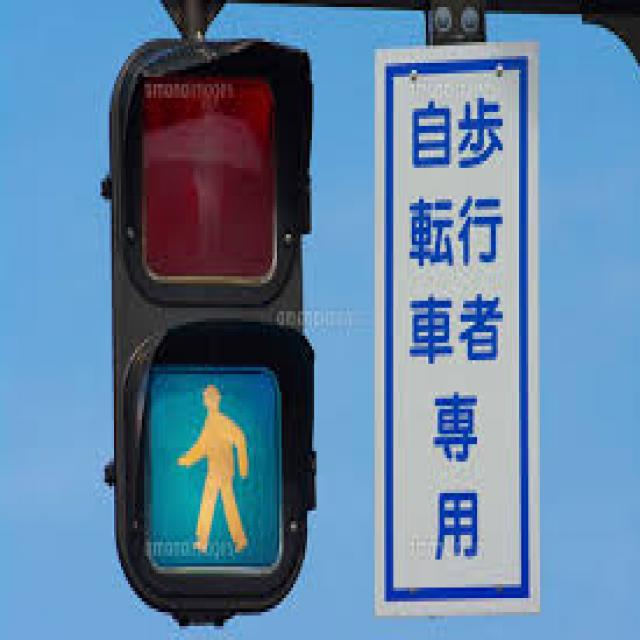trafficlight: (104, 35, 310, 608)
